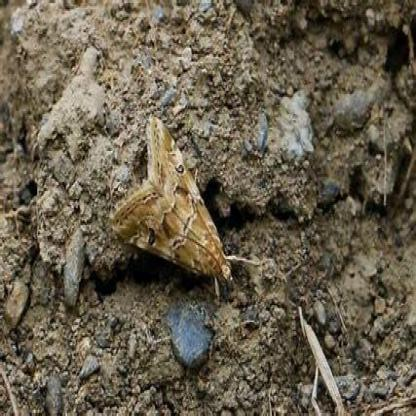Hellula undalis: (108, 110, 260, 285)
